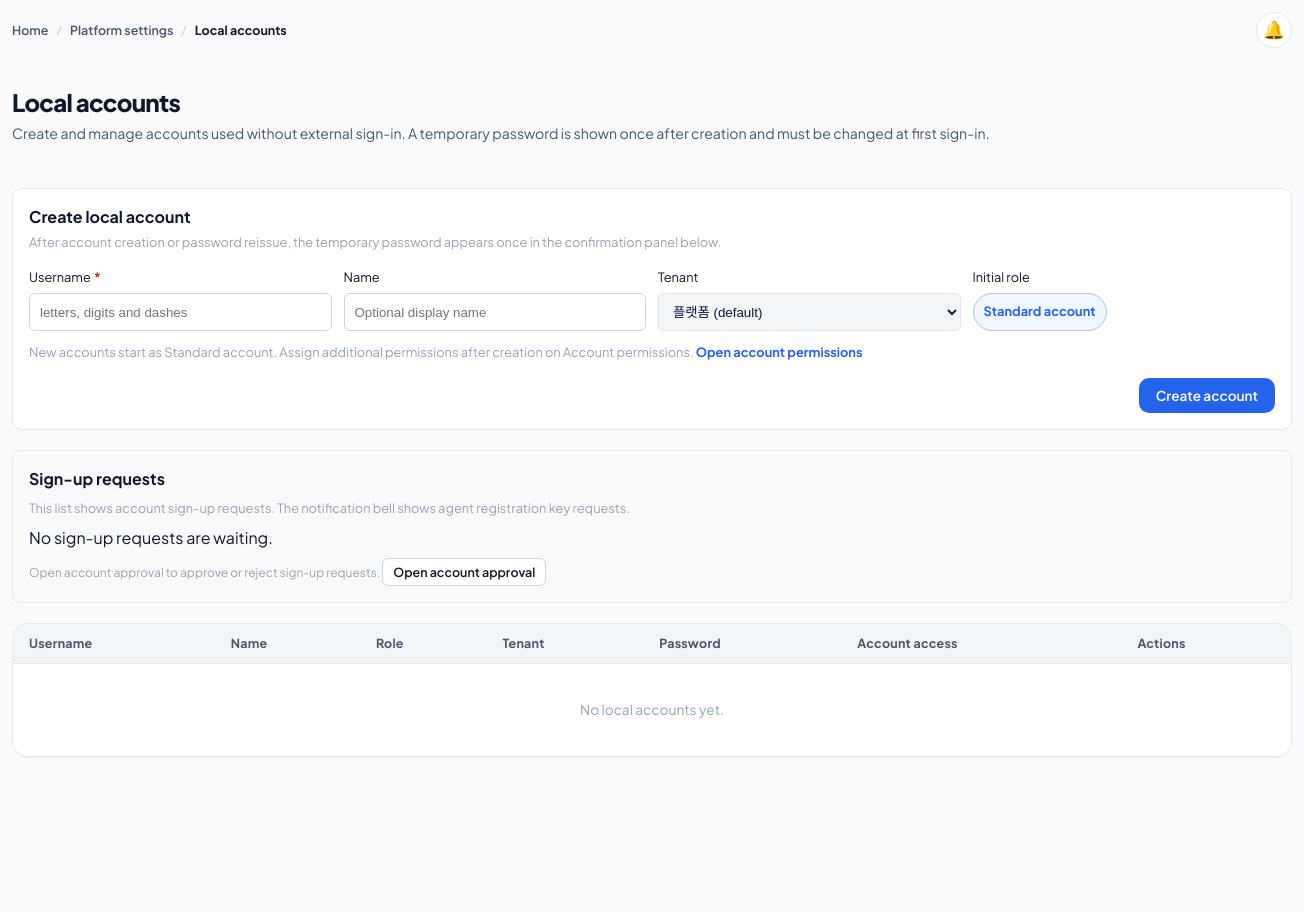
Test: the one temporary password › shows the server's own sentence when the admission is refused
Type "ada" into the field with test id "admit-username".
click(180, 312); type("ada")  # box [29,293,332,331]
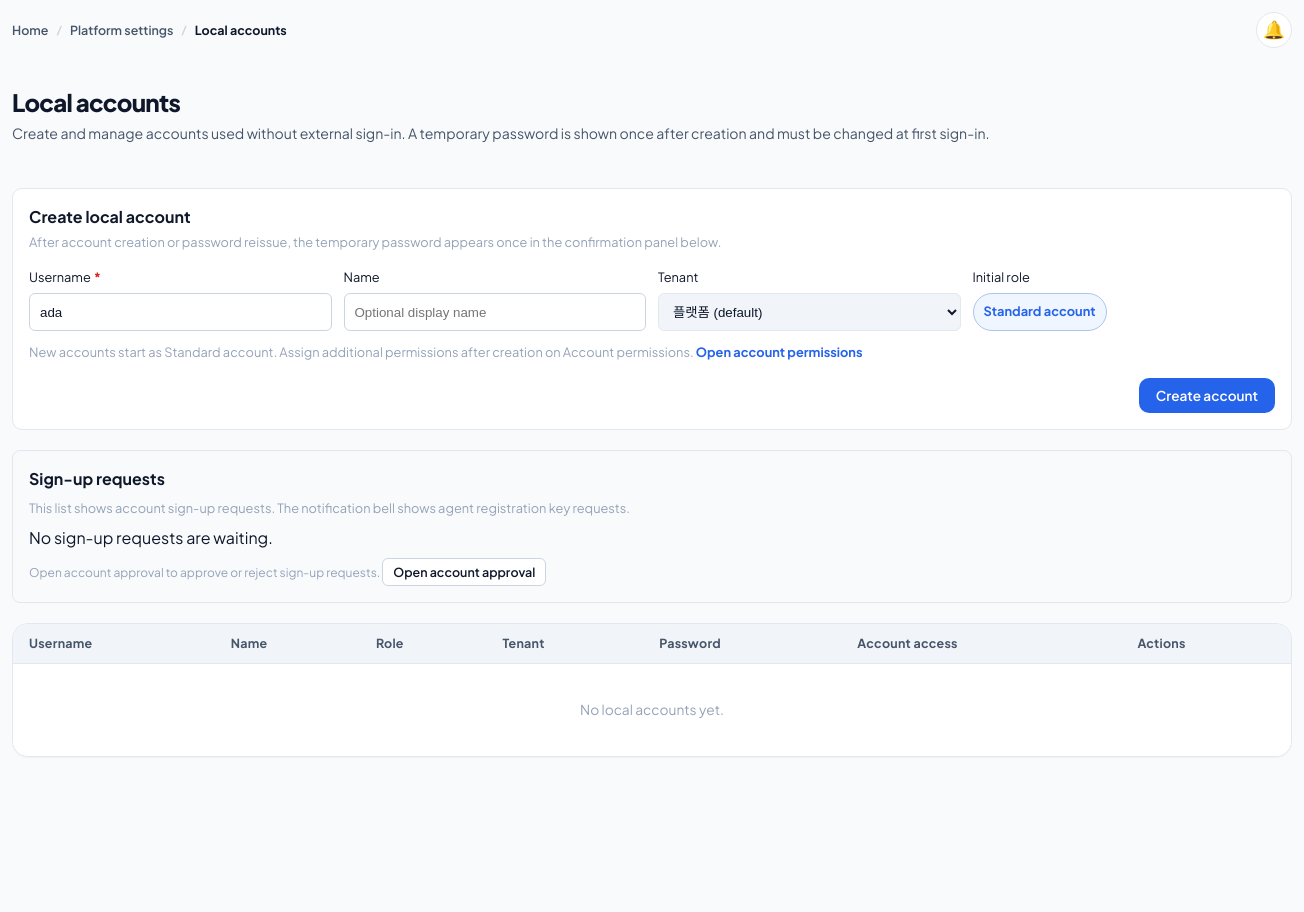
Submit the form with test id "admit-form", box [12,188,1292,430]
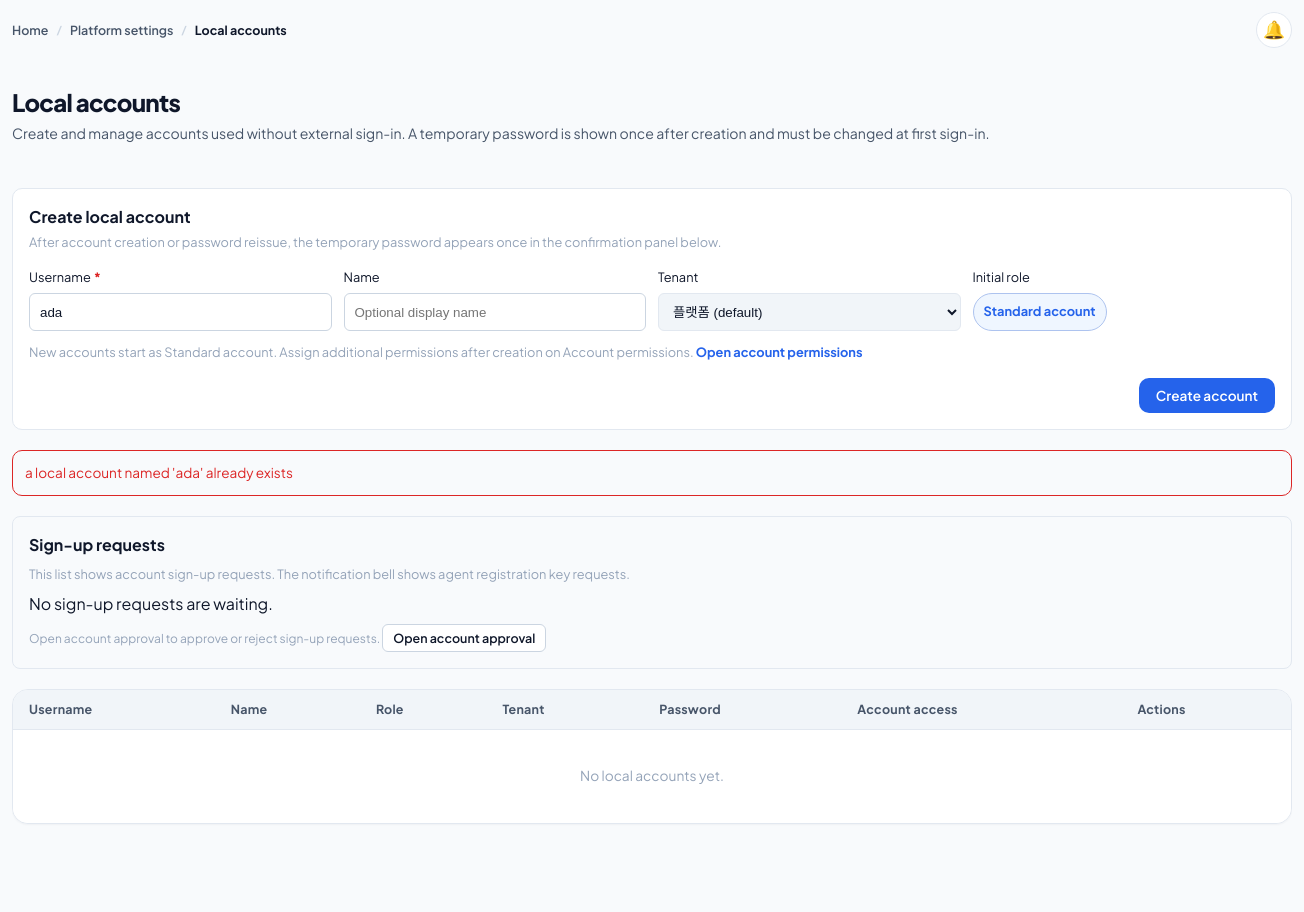
Check: the text with test id "admit-error" reads "a local account named 'ada' already exists", box [25,464,293,481]
